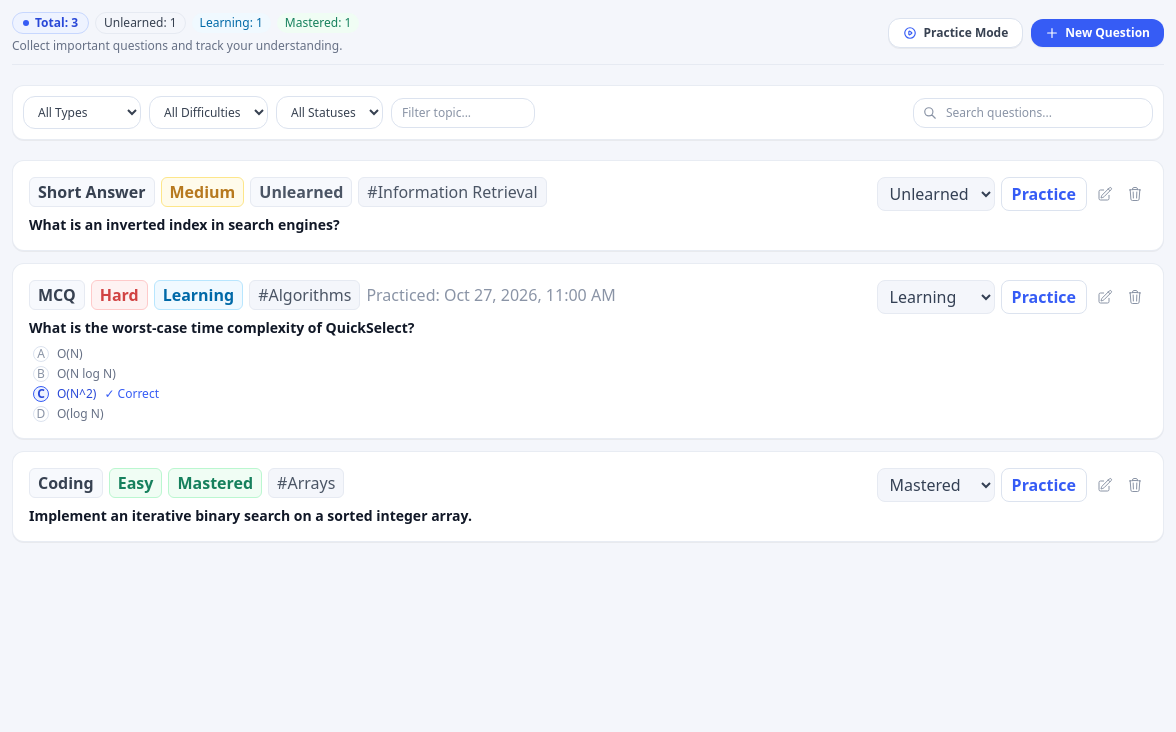
Test: Question Bank Feature Frontend Test Suite › rolls back status update and displays error alert when status update fails
Expected: the text "What is an inverted index in search engines?" is shown, 29,215 -> 340,234
Select "Mastered" in the dropdown named "Update mastery status for \"What is an inverted index in search engines?\"" at (936, 194), box 877,177 -> 995,211
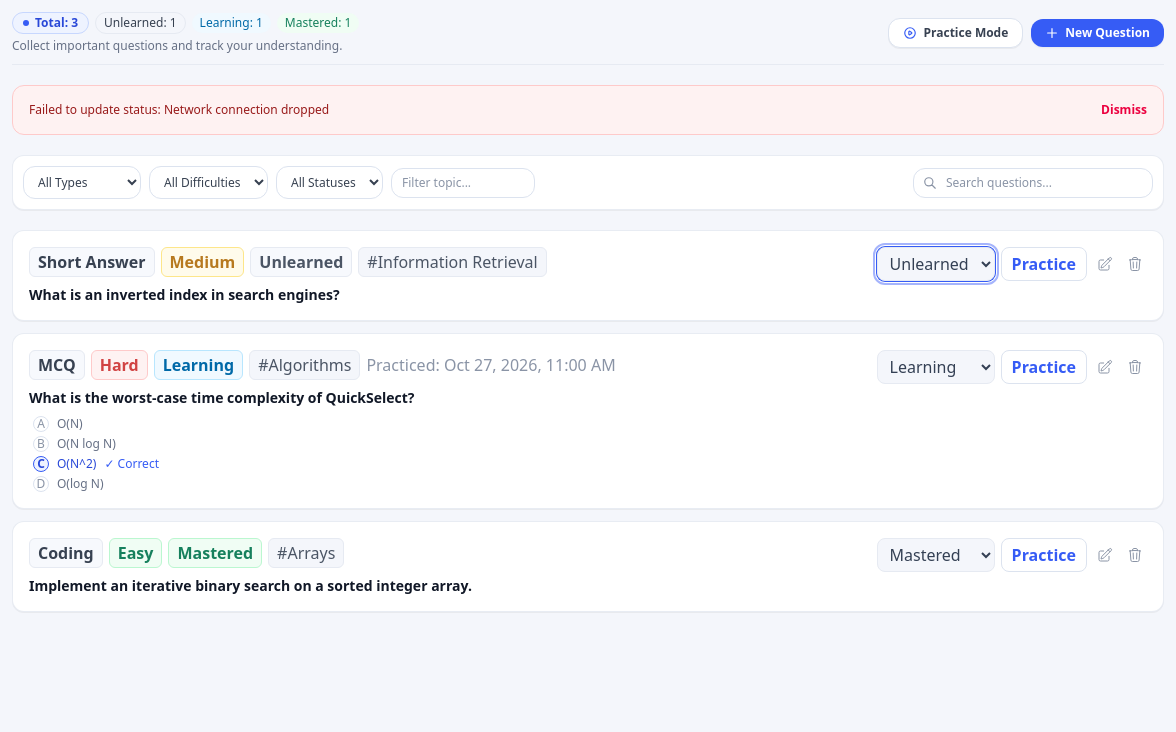
Expected: the text "Failed to update status: Network connection dropped" is shown, 29,102 -> 329,118
